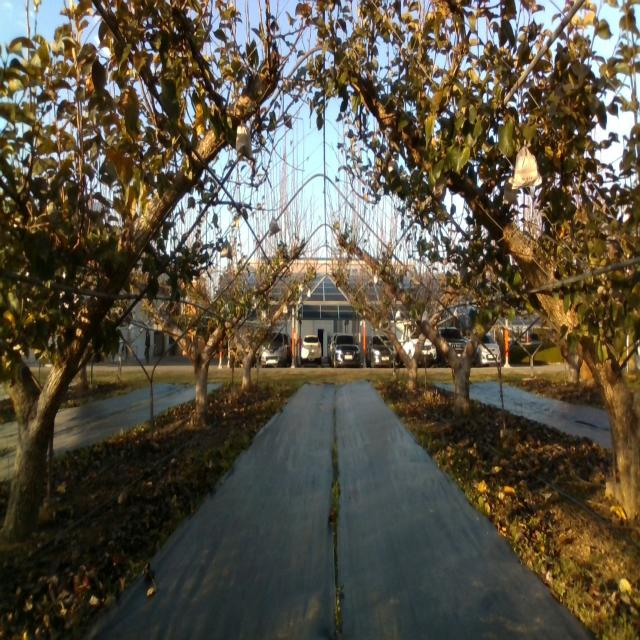pearbags: (512, 140, 542, 190), (236, 120, 254, 160), (503, 176, 519, 207), (268, 217, 280, 237), (220, 240, 232, 259)
